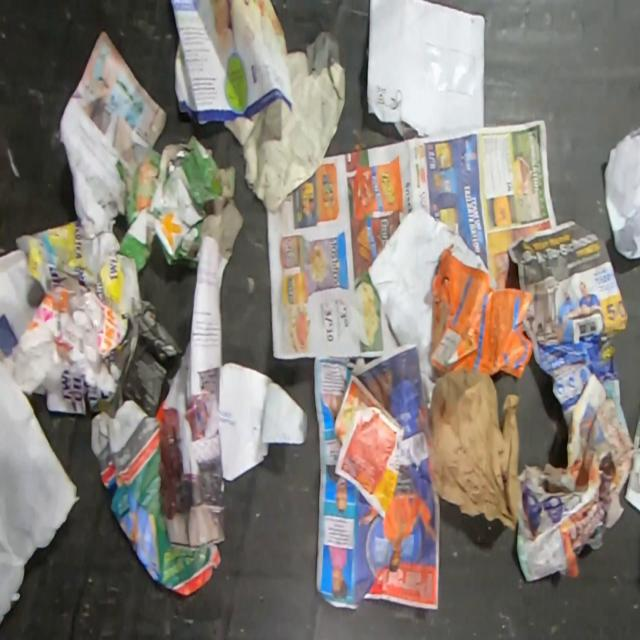metal: (166, 144, 193, 176)
